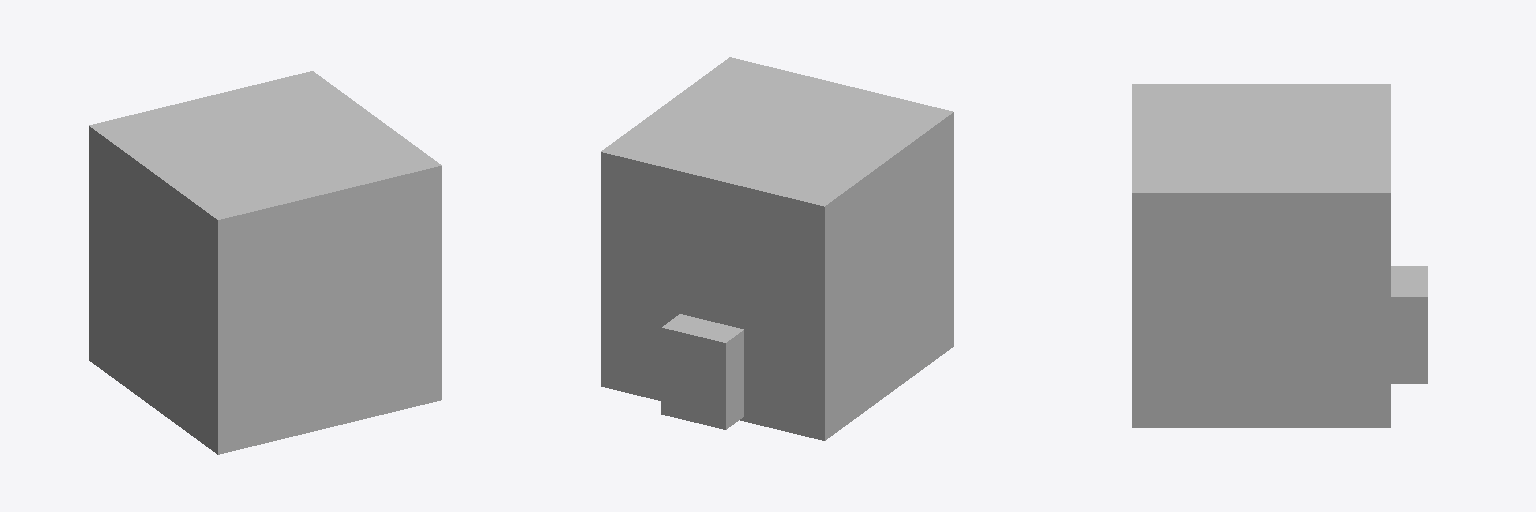
File: bank_box.obj
3 renders of one model, left to right at view 1: azimuth 30°, elevation 25°; view 2: azimuth 150°, elevation 25°; view 3: azimuth 270°, elevation 25°, orthographic.
Visible parts, largest first — view 1: Cube; view 2: Cube, Cube.001_Cube.002; view 3: Cube, Cube.001_Cube.002.
Boxes of the visible parts, <box> form: Cube: <box>89,71,441,454</box>; Cube: <box>601,57,953,440</box>; Cube.001_Cube.002: <box>661,314,743,429</box>; Cube: <box>1132,84,1390,427</box>; Cube.001_Cube.002: <box>1391,266,1427,383</box>.
Bounding box in the file's own units: 2 × 2 × 2.29.